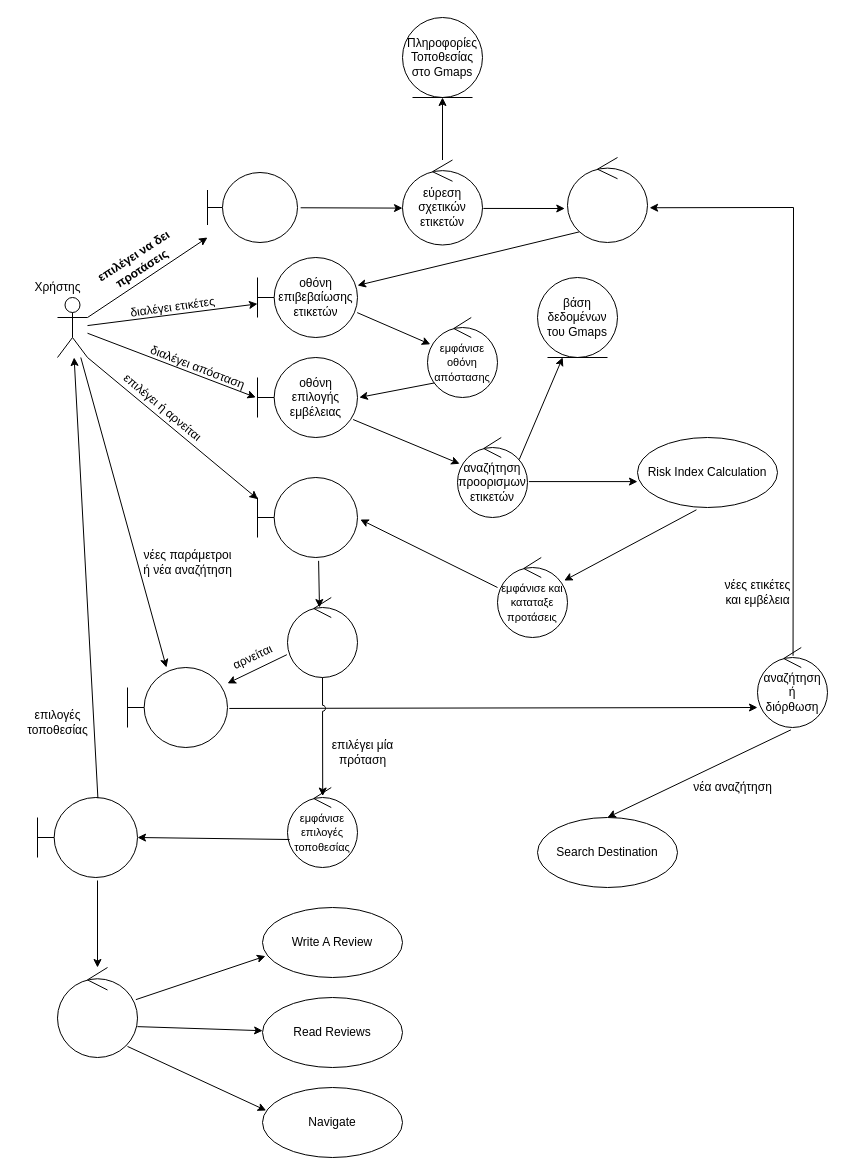
Image size: 845x1175. Some labels were removed from this diagram. Here are the shapes that lost their labels. From the top down, the centre of each, then its label:
(252,207): σύσταση λειτουργίας προτάσεων
(607,199): εμφάνισε επιλογή ετικετών
(307,517): οθόνη κατάταξης προτάσεων
(322,637): ανα-κατεύθυνση
(177,707): οθόνη επιλογής επιστροφής
(87,837): οθόνη επιλογών τοποθεσίας
(97,1012): ανακατεύθυνση λειτουργιών
